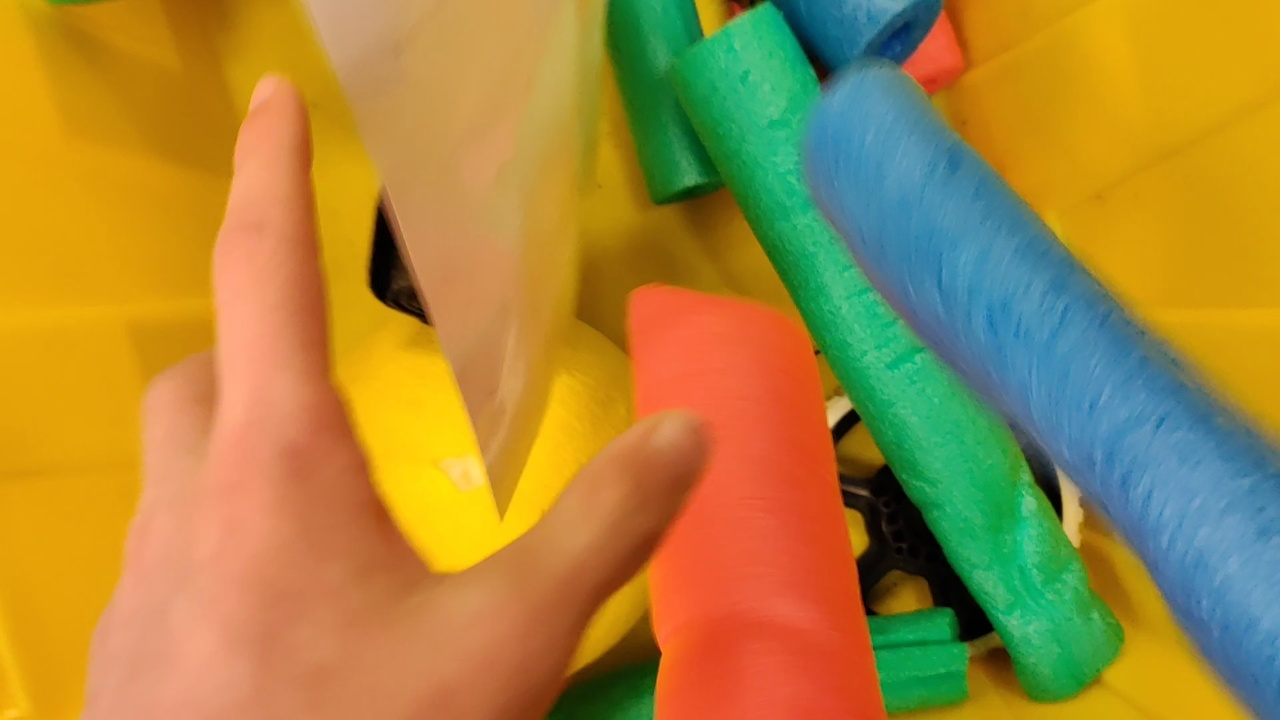Ball: (327, 307, 633, 584)
